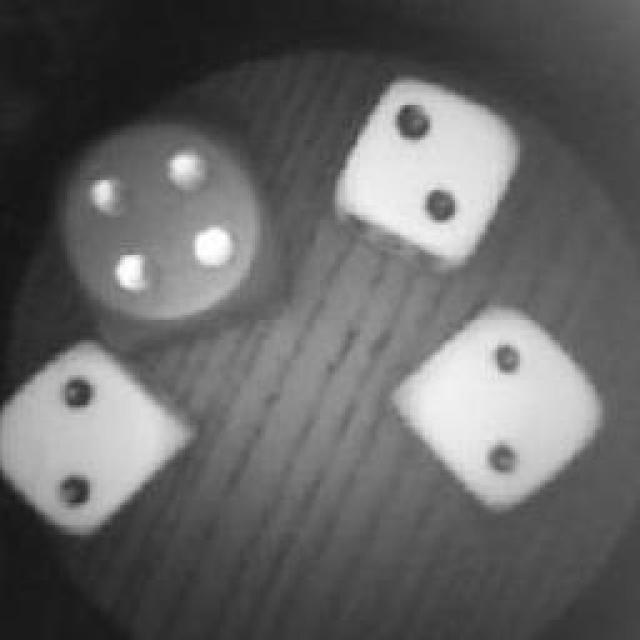dice_2: (392, 301, 608, 514), (0, 332, 208, 546), (344, 75, 518, 265)
dice_4: (49, 111, 304, 346)
